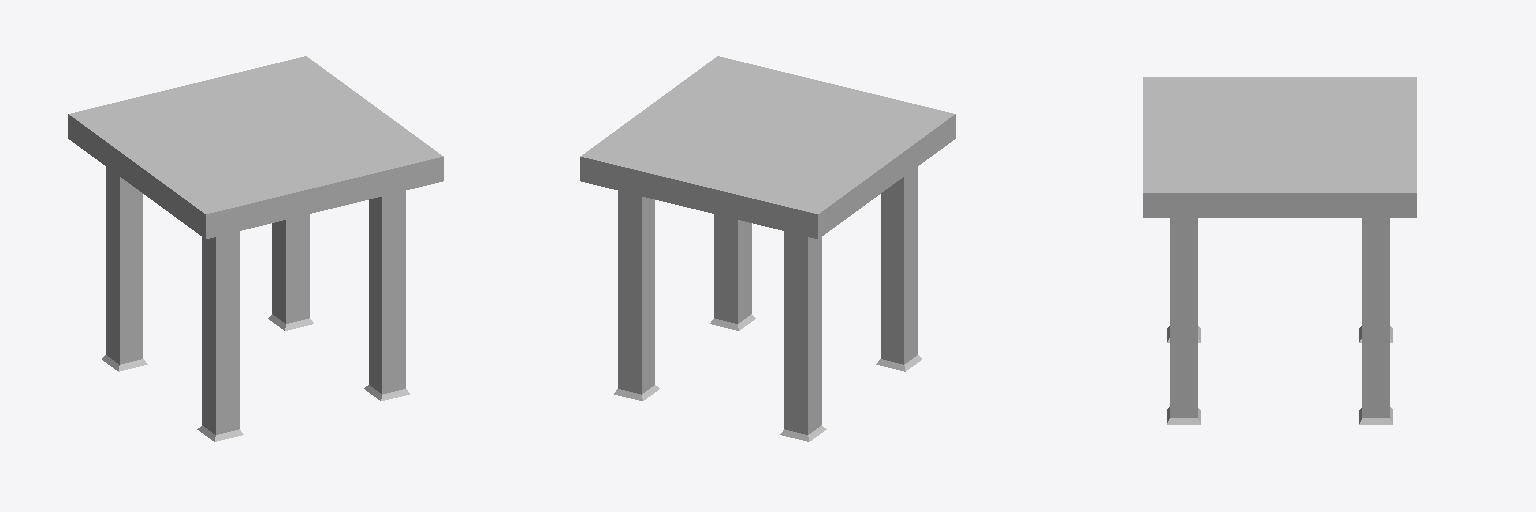
Rendered from room_table_chevet.obj.
The picture shows the model from 3 angles: view 1: azimuth 30°, elevation 25°; view 2: azimuth 150°, elevation 25°; view 3: azimuth 270°, elevation 25°; orthographic projection.
Visible parts, largest first — view 1: Vert.001_Vert.000; view 2: Vert.001_Vert.000; view 3: Vert.001_Vert.000.
Boxes of the visible parts, x1=… form: Vert.001_Vert.000: x1=68, y1=56, x2=443, y2=441; Vert.001_Vert.000: x1=580, y1=56, x2=955, y2=441; Vert.001_Vert.000: x1=1143, y1=77, x2=1416, y2=424.
Size of the model in its own units: 2.7 by 2.62 by 2.7.